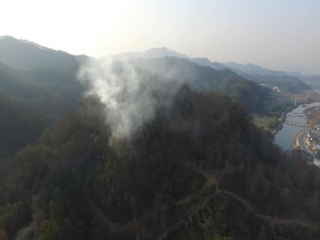smoke: (78, 50, 190, 152)
